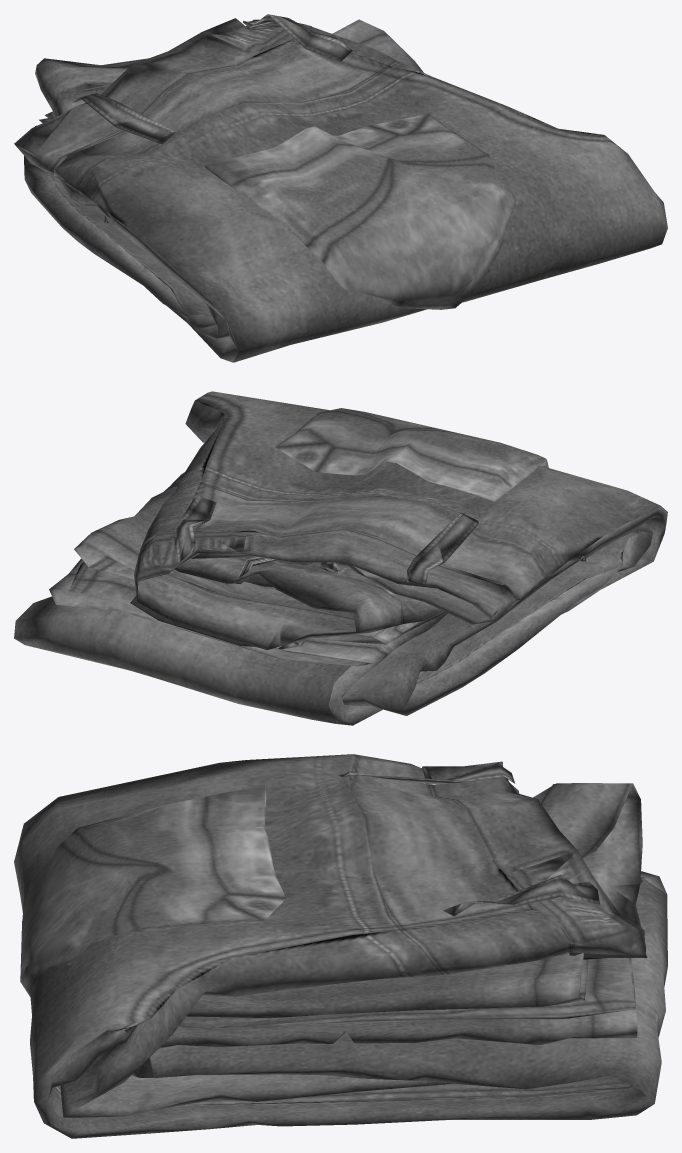
The model's file is Folded clothes 4.fbx.
3 views of the same model, one above another, from view 1: azimuth 30°, elevation 25°; view 2: azimuth 150°, elevation 25°; view 3: azimuth 270°, elevation 25° (orthographic). The views are drawn at different scales.
Visible parts, largest first — view 1: Folded clothes 4; view 2: Folded clothes 4; view 3: Folded clothes 4.
Boxes of the visible parts, x1=… form: Folded clothes 4: x1=14, y1=14, x2=667, y2=362; Folded clothes 4: x1=14, y1=391, x2=667, y2=725; Folded clothes 4: x1=14, y1=754, x2=667, y2=1138.
Size of the model in its own units: 30.8 by 8.4 by 30.59.
1 material, 1 textured.
